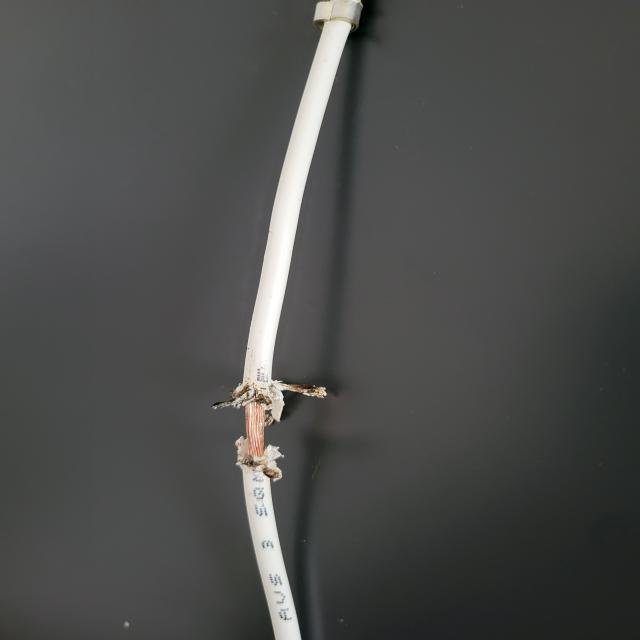defect: (150, 331, 416, 530)
